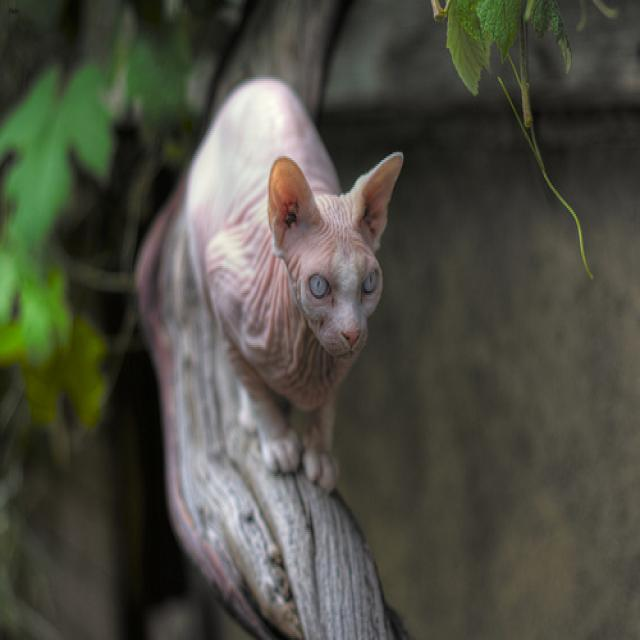Sphynx: (265, 148, 402, 355)
